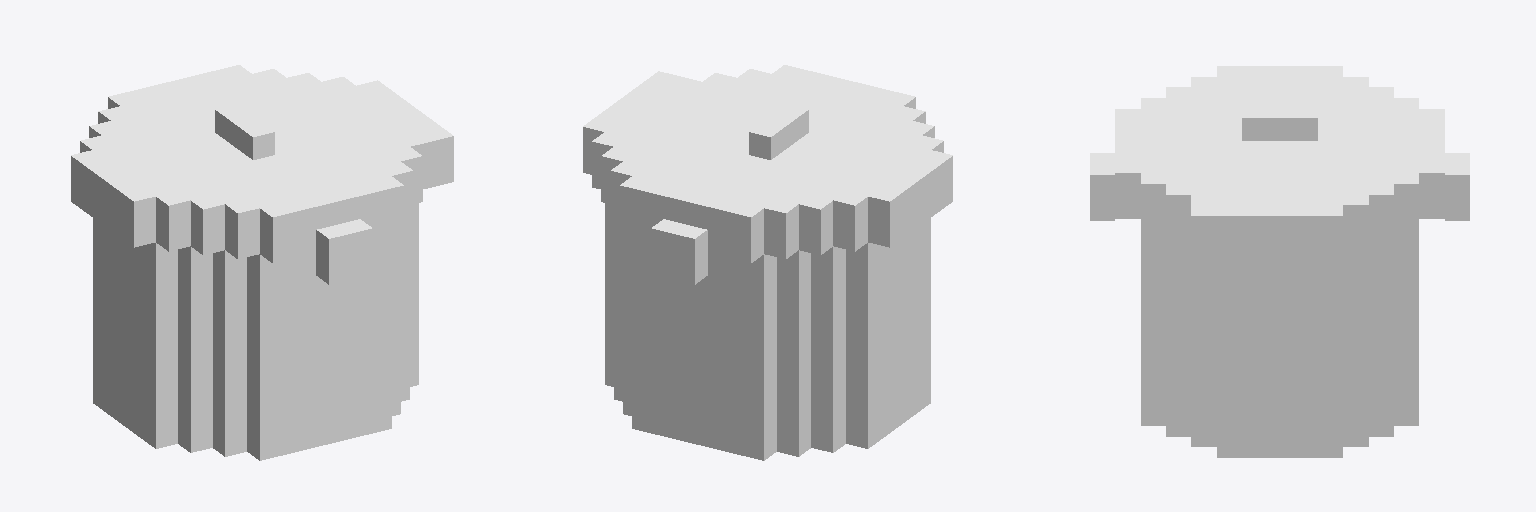
The model's file is Kastrula.obj.
3 views of the same model, side by side, from view 1: azimuth 30°, elevation 25°; view 2: azimuth 150°, elevation 25°; view 3: azimuth 270°, elevation 25° (orthographic).
Visible parts, largest first — view 1: object 1; view 2: object 1; view 3: object 1.
Part boxes in pixels (x1,y1,x2,y2): object 1: (71,65,453,460); object 1: (583,65,952,460); object 1: (1090,66,1469,457).
Size of the model in its own units: 1.4 by 1.2 by 1.5.